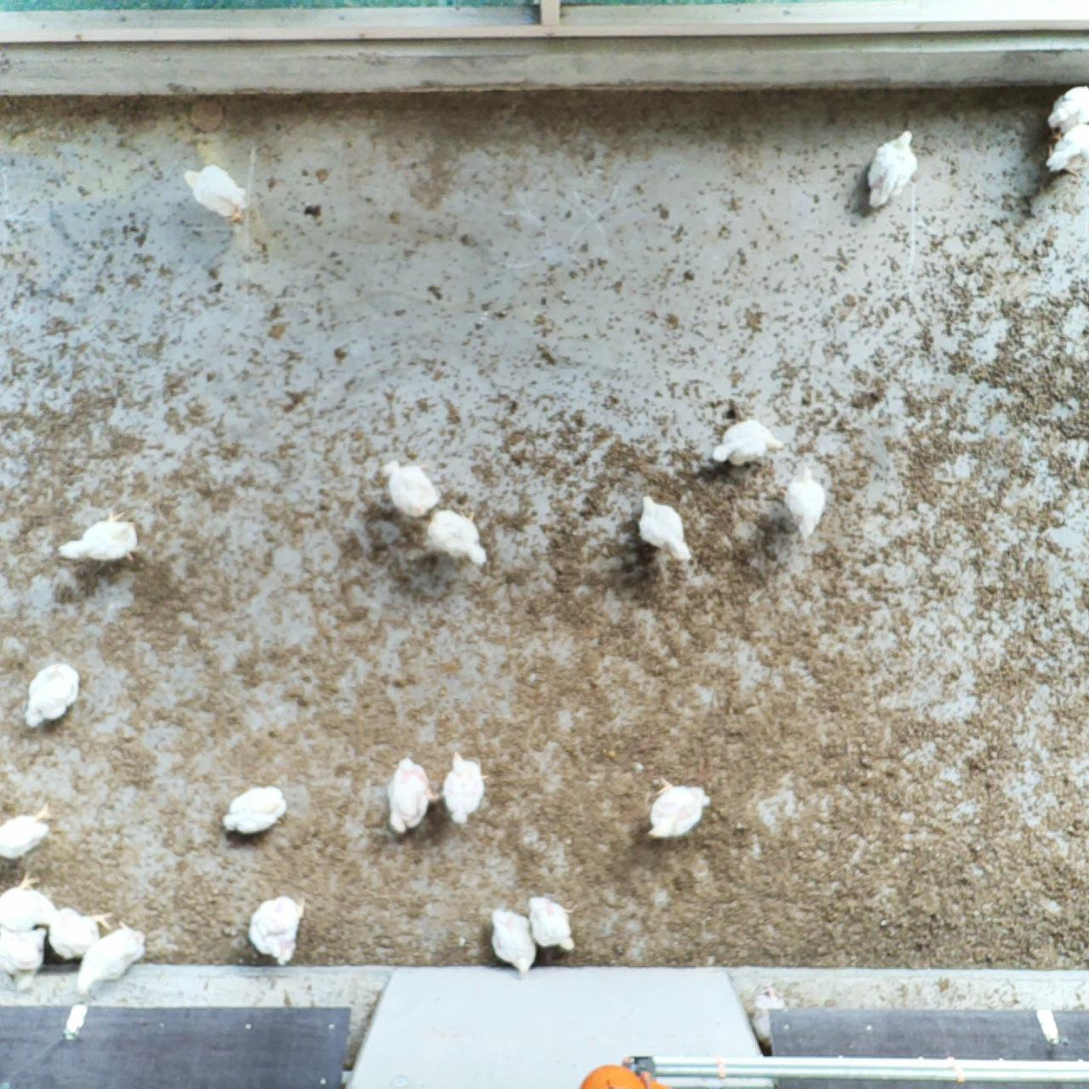chicken: (76, 918, 151, 999), (56, 505, 141, 567), (244, 891, 311, 967), (385, 752, 442, 835), (865, 128, 920, 213), (712, 412, 791, 470), (421, 504, 491, 569), (21, 659, 82, 733), (646, 773, 712, 841), (636, 492, 695, 566), (43, 903, 117, 961), (182, 162, 250, 225), (376, 456, 442, 518), (219, 783, 289, 840), (489, 905, 539, 981), (0, 868, 60, 931), (781, 465, 827, 542), (443, 750, 490, 825), (0, 800, 54, 865), (526, 894, 581, 954), (0, 923, 48, 989), (1041, 122, 1089, 182), (1046, 82, 1089, 143)
